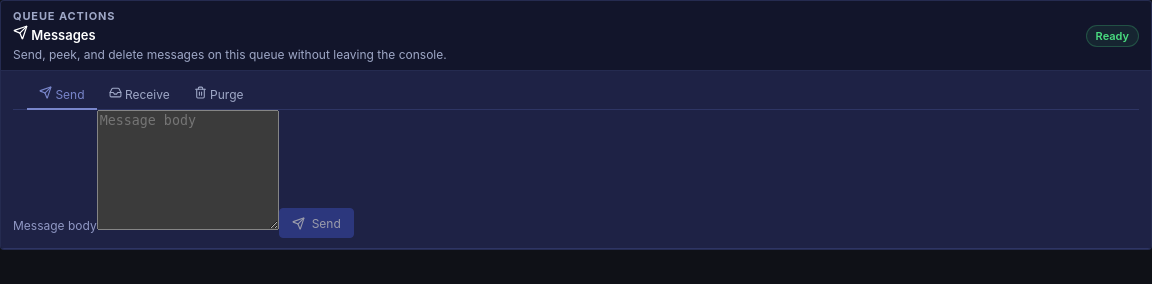
Test: SqsMessagingPanel › receives messages as a non-consuming peek and deletes one by receipt handle
Step 1. Click the button "Receive" → (139, 95), box [96,81,182,110]
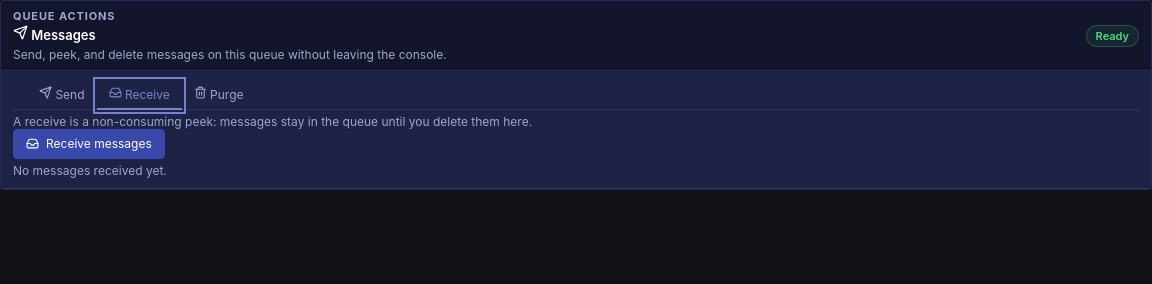
Step 2. Click the button "Receive messages" → (89, 144), box [13,129,165,159]
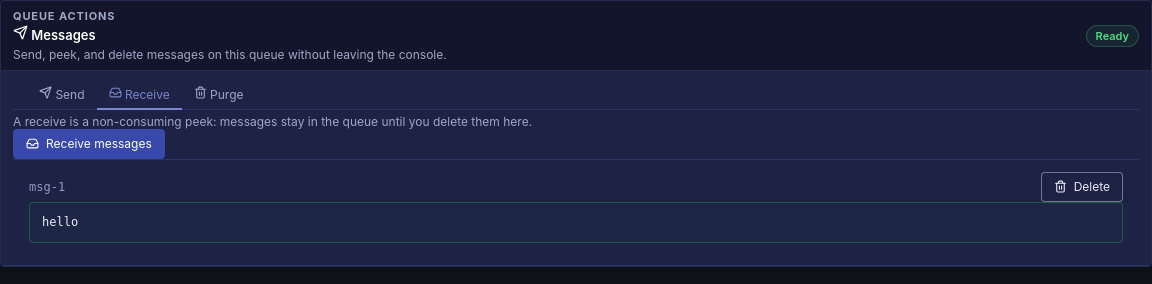
Expected: the text "hello" is shown, [29,202,1123,243]
Step 3. Click the button "Delete" → (1082, 187), box [1041,172,1123,202]
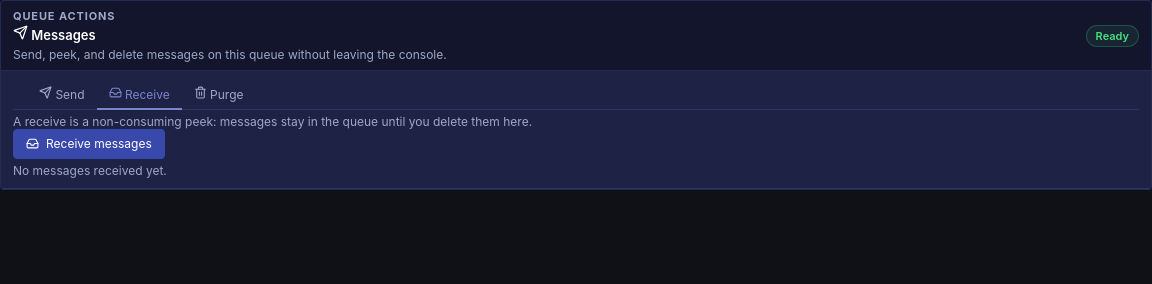
Expected: the text "hello" is gone
